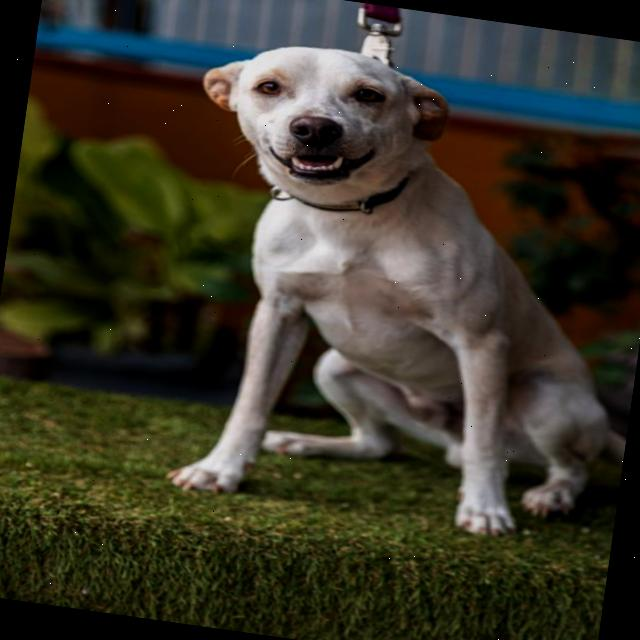labrador_retriever_dog: (165, 18, 488, 248)
